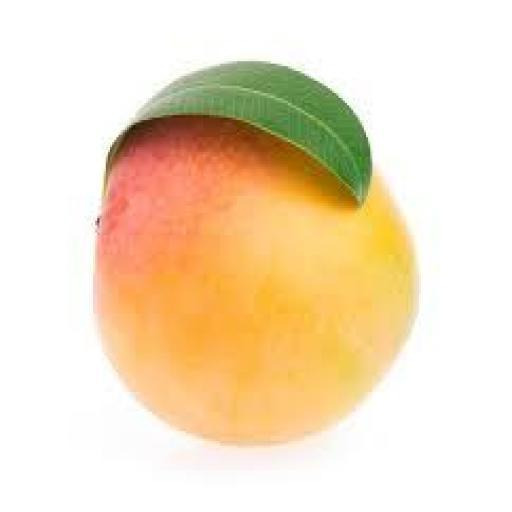mango: (96, 118, 416, 443)
